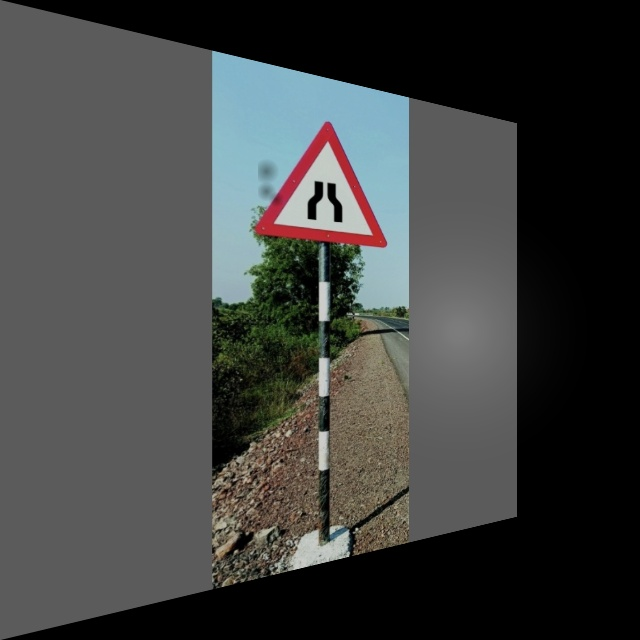Narrow_Road_Ahead: (258, 110, 388, 249)
